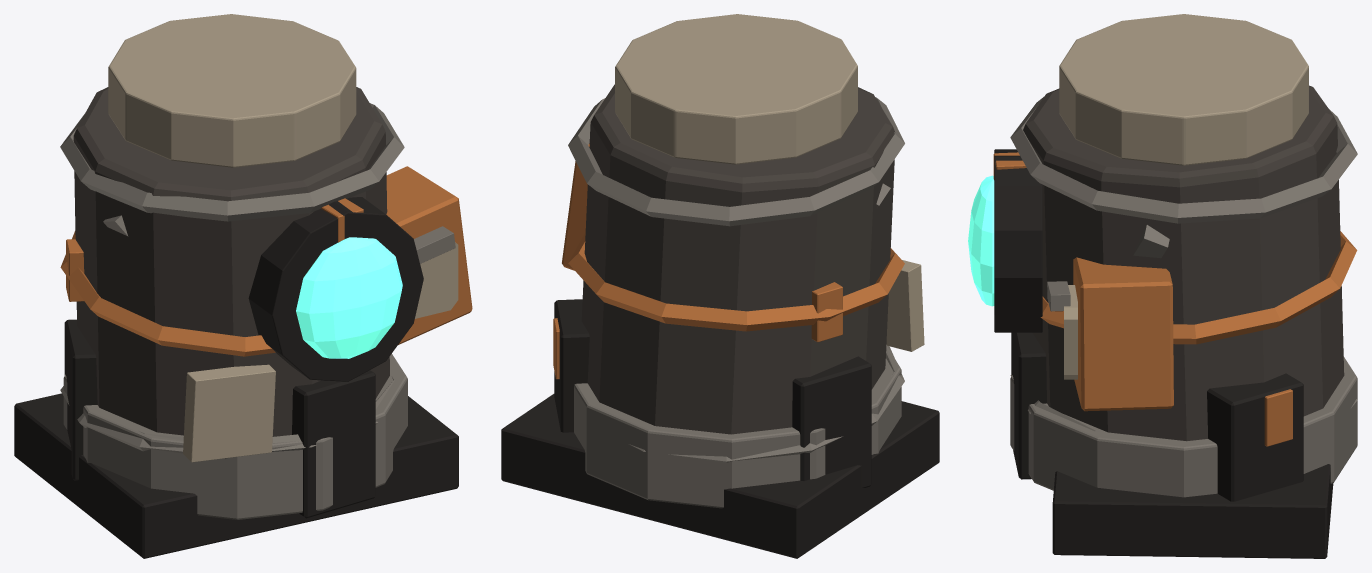
File: objective_core__intact.glb
The picture shows the model from 3 angles, left to right: view 1: azimuth 30°, elevation 25°; view 2: azimuth 150°, elevation 25°; view 3: azimuth 270°, elevation 25°; orthographic projection. The views are drawn at different scales.
Parts seen in each view (by area): view 1: ROLE_primary, ROLE_rubber, ROLE_secondary, ROLE_bareMetal, ROLE_accent, ROLE_interaction; view 2: ROLE_primary, ROLE_rubber, ROLE_secondary, ROLE_bareMetal, ROLE_accent; view 3: ROLE_primary, ROLE_rubber, ROLE_secondary, ROLE_bareMetal, ROLE_accent, ROLE_interaction.
Boxes of the visible parts, bbox=[...] form: ROLE_primary: bbox=[73, 87, 389, 436]; ROLE_rubber: bbox=[14, 197, 458, 558]; ROLE_secondary: bbox=[108, 14, 458, 462]; ROLE_bareMetal: bbox=[60, 103, 455, 519]; ROLE_accent: bbox=[60, 166, 472, 356]; ROLE_interaction: bbox=[296, 237, 402, 358]; ROLE_primary: bbox=[581, 84, 895, 434]; ROLE_rubber: bbox=[501, 299, 939, 558]; ROLE_secondary: bbox=[615, 14, 924, 351]; ROLE_bareMetal: bbox=[568, 97, 904, 508]; ROLE_accent: bbox=[553, 143, 904, 379]; ROLE_primary: bbox=[1023, 85, 1344, 441]; ROLE_rubber: bbox=[994, 149, 1333, 558]; ROLE_secondary: bbox=[1059, 14, 1308, 379]; ROLE_bareMetal: bbox=[1010, 97, 1357, 497]; ROLE_accent: bbox=[993, 152, 1357, 446]; ROLE_interaction: bbox=[968, 175, 994, 306].
Size of the model in its own units: 6 by 7 by 6.
